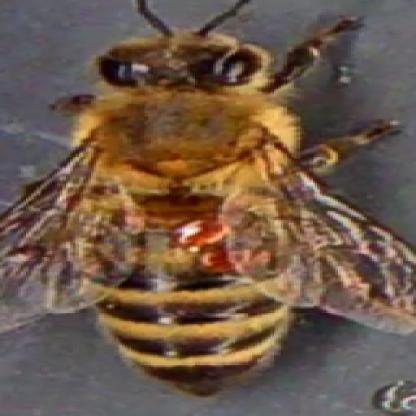bee: (74, 27, 326, 387)
vaoora: (172, 217, 236, 242), (211, 252, 276, 272)
